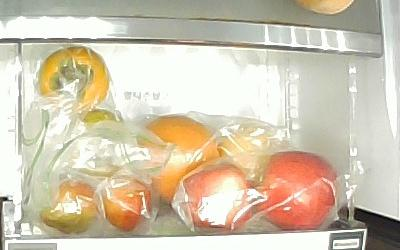apple_vinyl: (257, 151, 338, 230), (183, 164, 252, 230)
grapefruit_vinyl: (136, 116, 220, 206)
persimmon_vinyl: (38, 46, 110, 110)
prune_vinyl: (41, 181, 100, 234), (101, 178, 151, 234)
